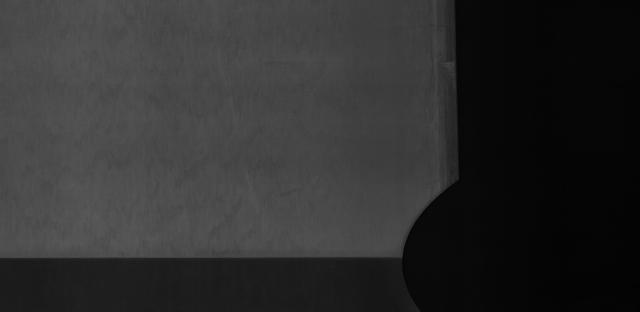welding_line: (2, 241, 427, 274)
